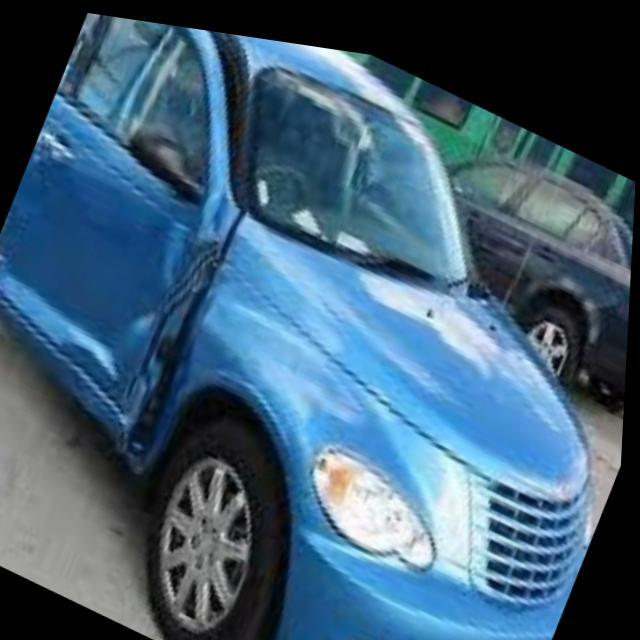dent: (8, 167, 240, 458)
